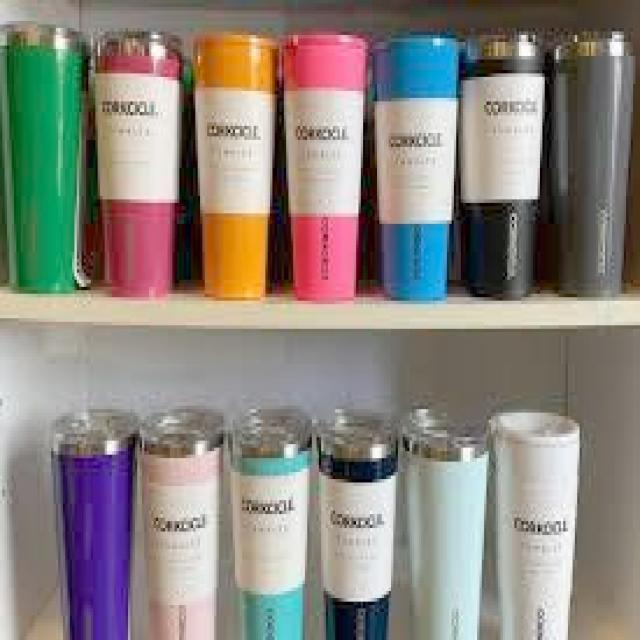bottle: (186, 30, 279, 299), (282, 33, 368, 306), (547, 33, 635, 299), (374, 33, 459, 303), (96, 28, 180, 301), (458, 30, 542, 302), (0, 24, 81, 293), (49, 402, 135, 640), (137, 405, 221, 640), (401, 409, 486, 640), (493, 412, 579, 640), (315, 409, 399, 640), (230, 412, 311, 640)
